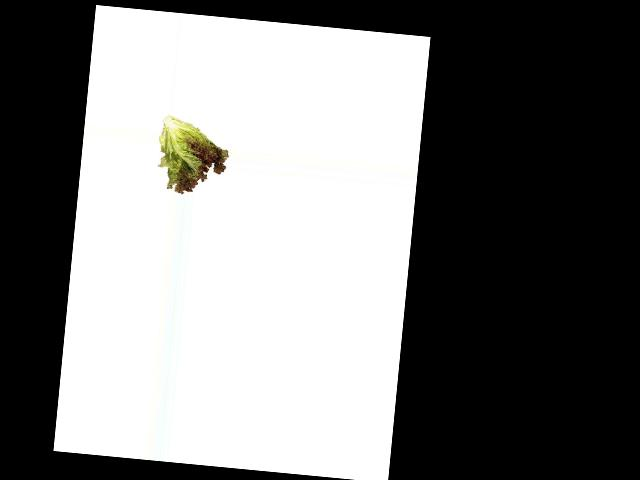lettuce: (155, 116, 230, 198)
